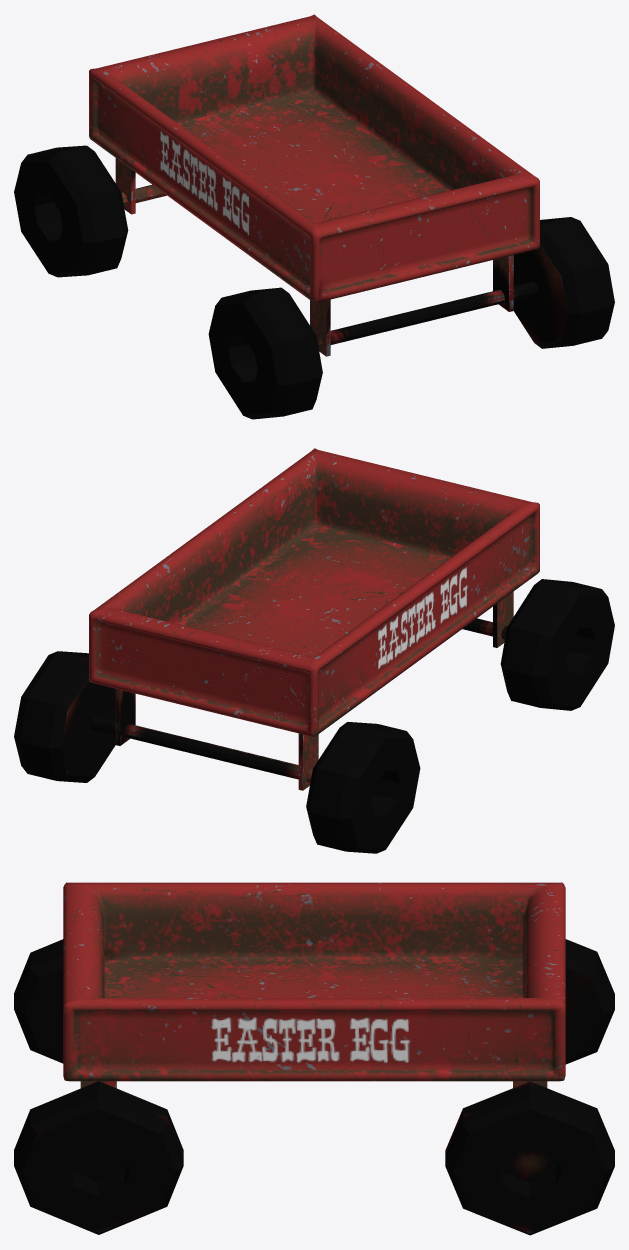
The model's file is Wagon_Fixed.fbx.
3 renders of one model, top to bottom at view 1: azimuth 30°, elevation 25°; view 2: azimuth 150°, elevation 25°; view 3: azimuth 270°, elevation 25°, orthographic. The views are drawn at different scales.
Parts seen in each view (by area): view 1: Box014; view 2: Box014; view 3: Box014.
Boxes of the visible parts, x1,y1,x2,y2 form: Box014: (14, 14, 614, 419); Box014: (14, 448, 614, 853); Box014: (14, 882, 614, 1235).
Bounding box in the file's own units: 1.17 × 1.63 × 0.6197.
